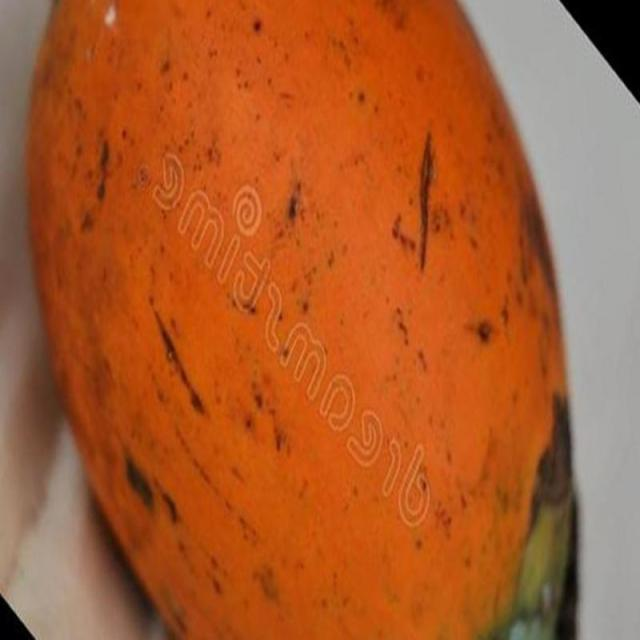good: (23, 0, 579, 639)
